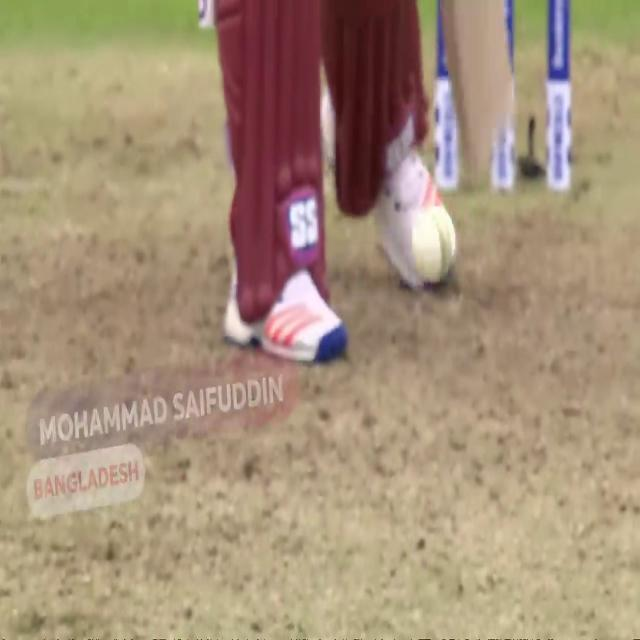ball: (412, 203, 458, 286)
